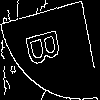B: (25, 24, 69, 68)
